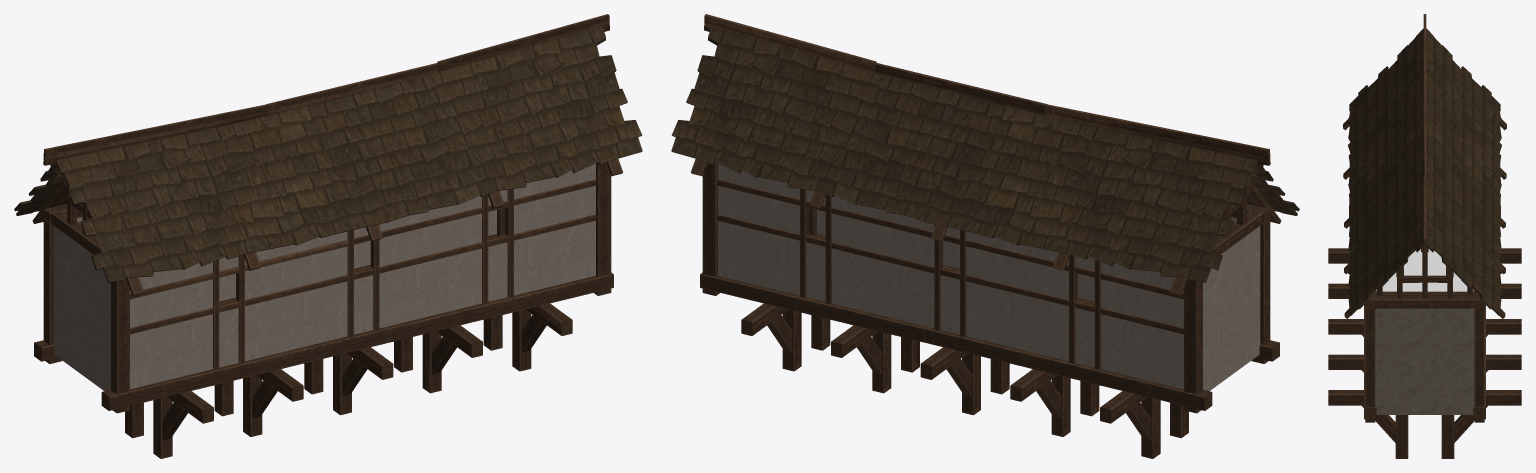
The model's file is Building1a.glb.
3 renders of one model, left to right at view 1: azimuth 30°, elevation 25°; view 2: azimuth 150°, elevation 25°; view 3: azimuth 270°, elevation 25°, orthographic. The views are drawn at different scales.
Visible parts, largest first — view 1: roof, beams00, wall1; view 2: roof, beams00, wall1; view 3: roof, beams00, wall, floor.
Part boxes in pixels (<box>): roof: <box>14,26,642,282</box>; beams00: <box>32,14,623,458</box>; wall1: <box>53,163,595,390</box>; roof: <box>671,26,1299,282</box>; beams00: <box>690,14,1281,458</box>; wall1: <box>718,163,1260,390</box>; roof: <box>1348,28,1501,315</box>; beams00: <box>1328,14,1521,458</box>; wall: <box>1375,308,1474,414</box>; floor: <box>1376,249,1473,291</box>.
Bounding box in the file's own units: 12.6 × 6.82 × 4.6.
Materials: 4 (4 with a texture image).
